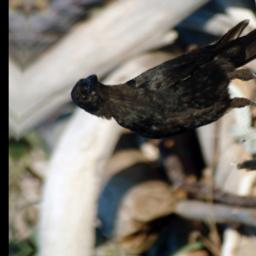Crow: (65, 8, 256, 147)
